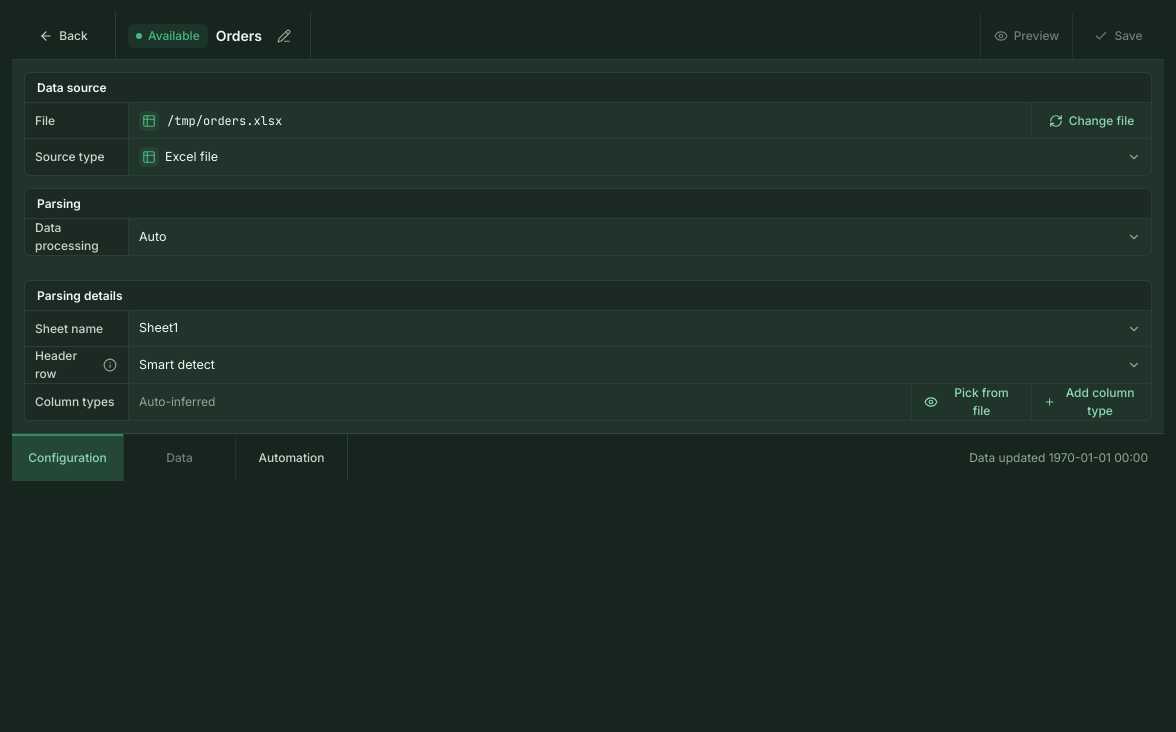
Test: RawTableEditorWorkbench custom draft persistence › restores the custom config after toggling back to Auto and back
Step 1. Press Enter in the dropdown labelled "Auto", box [129, 219, 1151, 255]
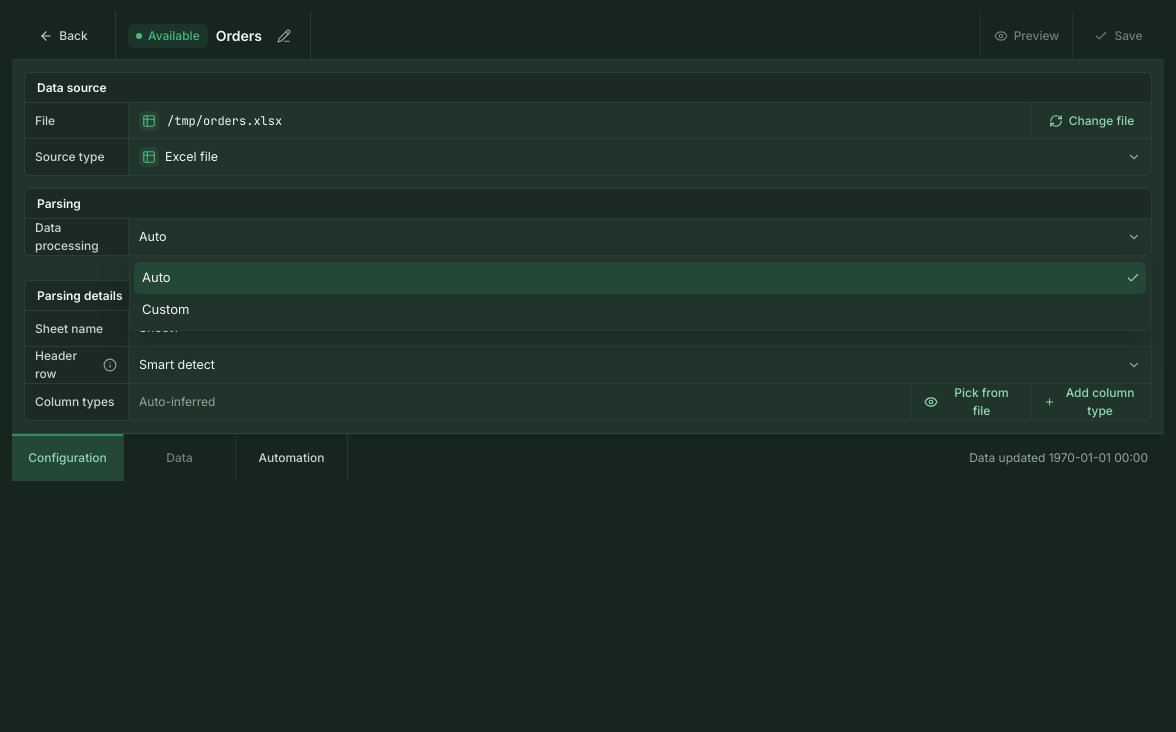
Step 2. Click the option "Custom" → click(166, 309), box [142, 301, 189, 317]
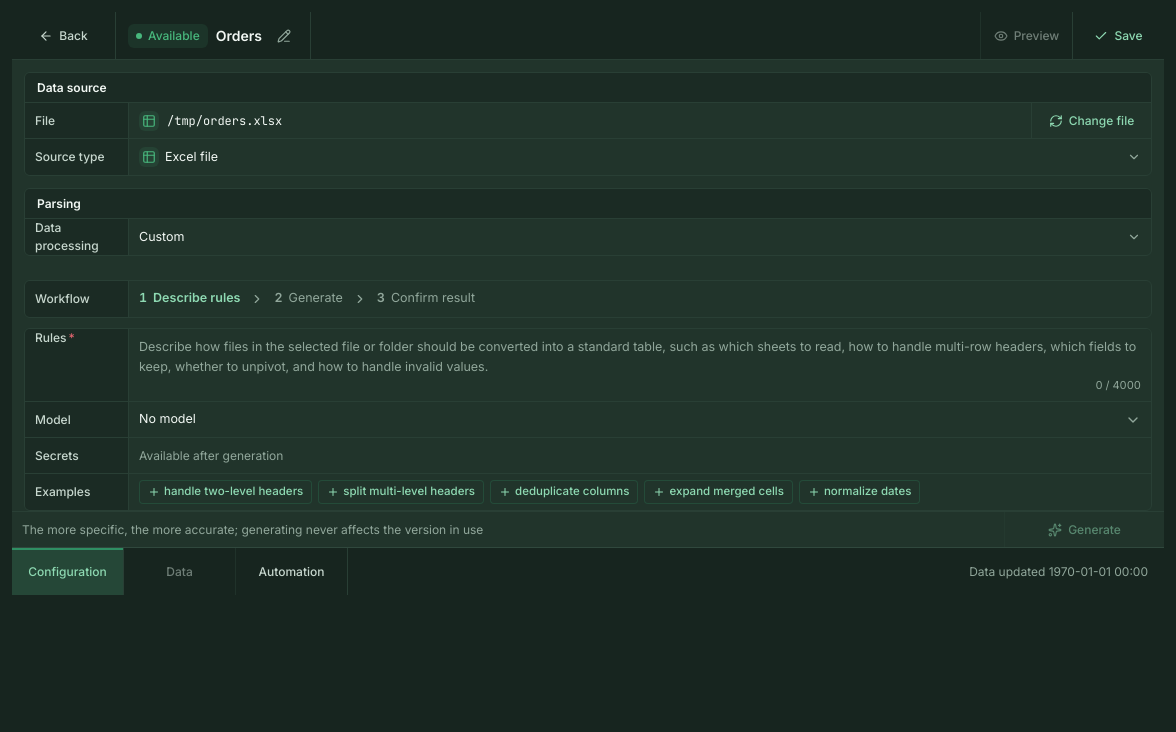
Check: the dropdown labelled "Custom" is shown, box [129, 219, 1151, 255]
Step 3. Replace the text in the text box with "dedupe by id" → (640, 365), box [139, 337, 1141, 393]
Step 4. Press Enter in the dropdown labelled "Custom", box [129, 219, 1151, 255]
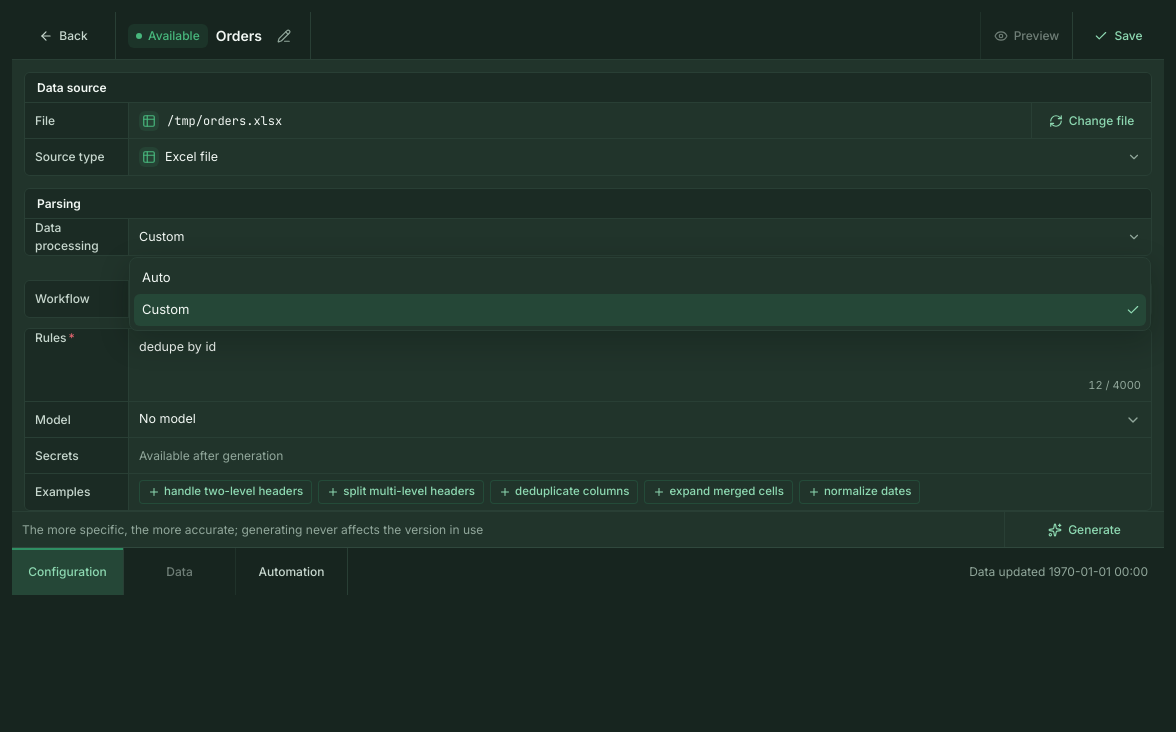
Step 5. Click the option "Auto" → click(156, 277), box [142, 269, 171, 285]
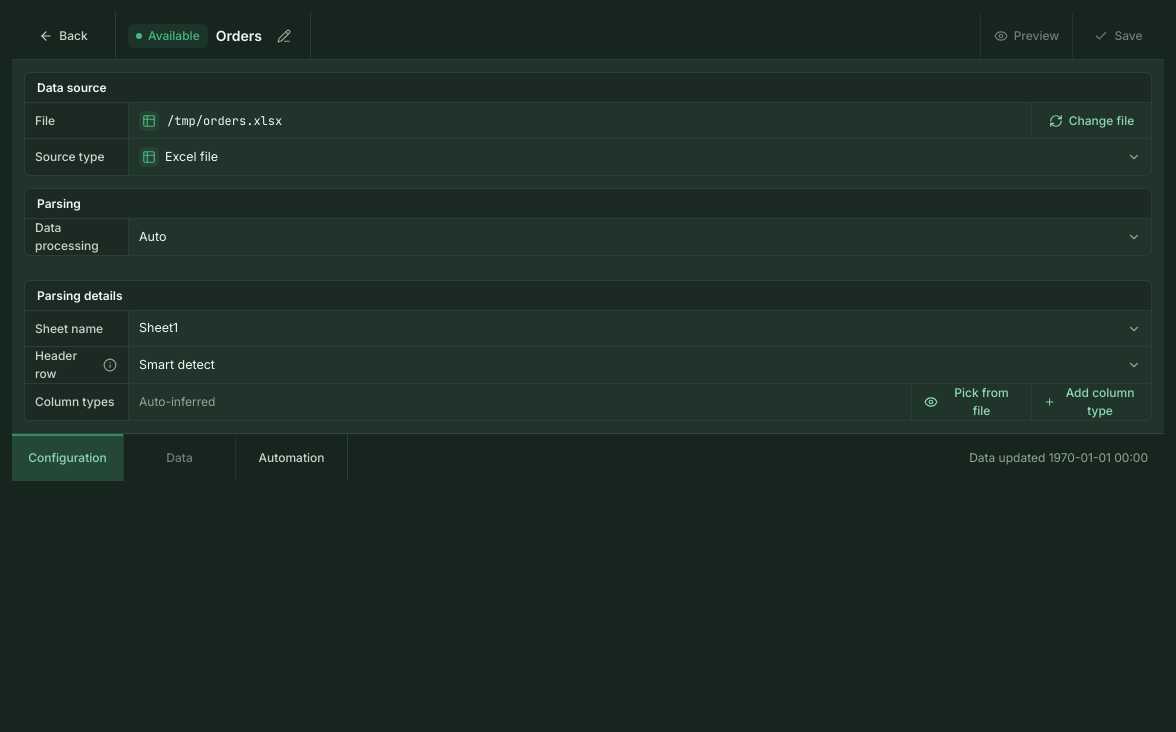
Check: the dropdown labelled "Auto" is shown
Check: the text box is gone
Step 6. Press Enter in the dropdown labelled "Auto", box [129, 219, 1151, 255]
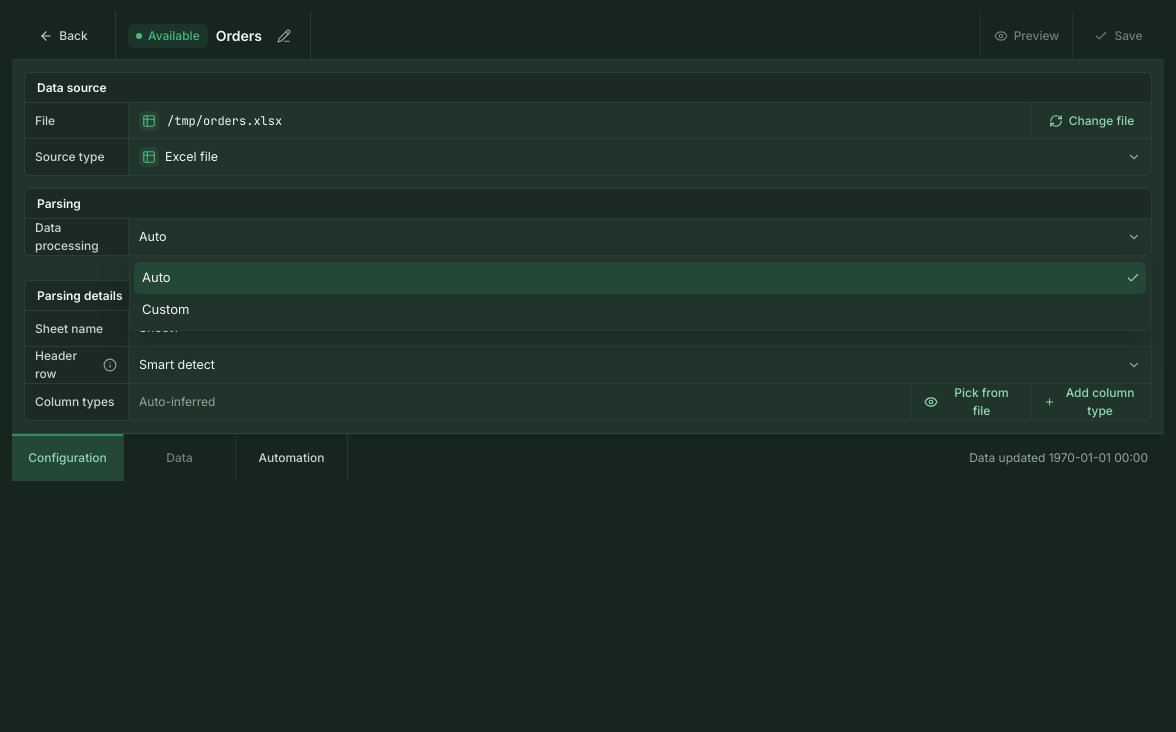
Step 7. Click the option "Custom" → click(166, 309), box [142, 301, 189, 317]
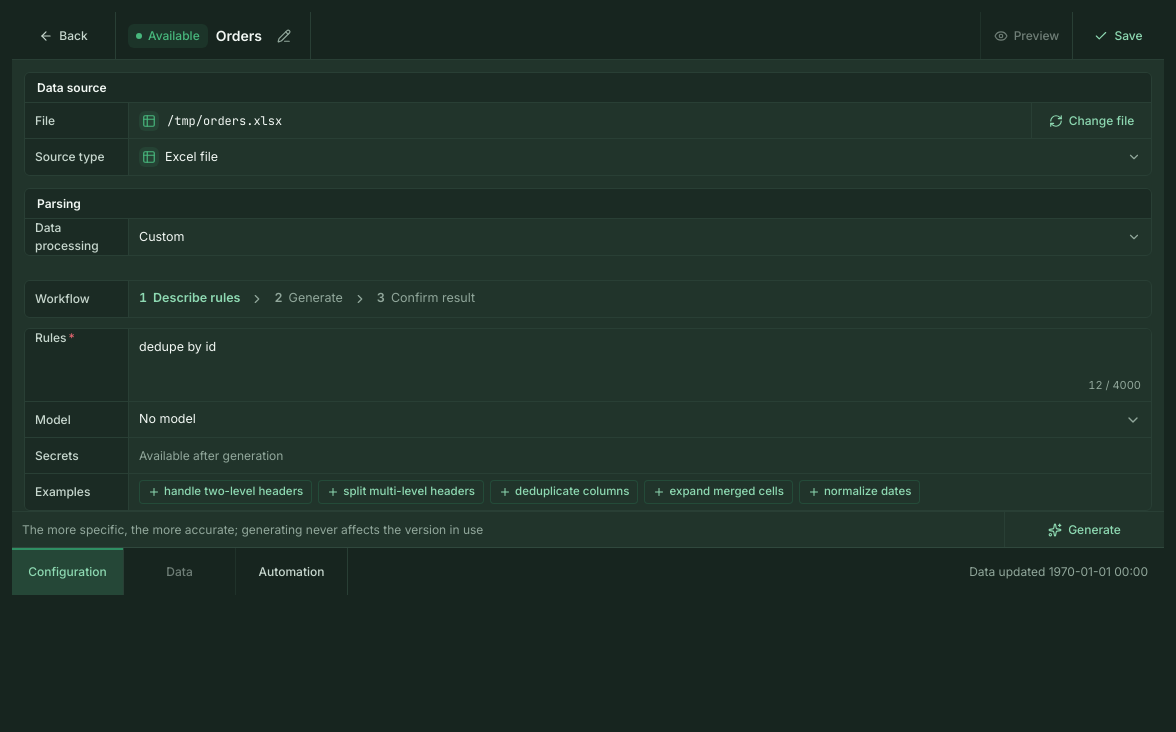
Check: the dropdown labelled "Custom" is shown, box [129, 219, 1151, 255]
Check: the text box holds "dedupe by id", box [139, 337, 1141, 393]
